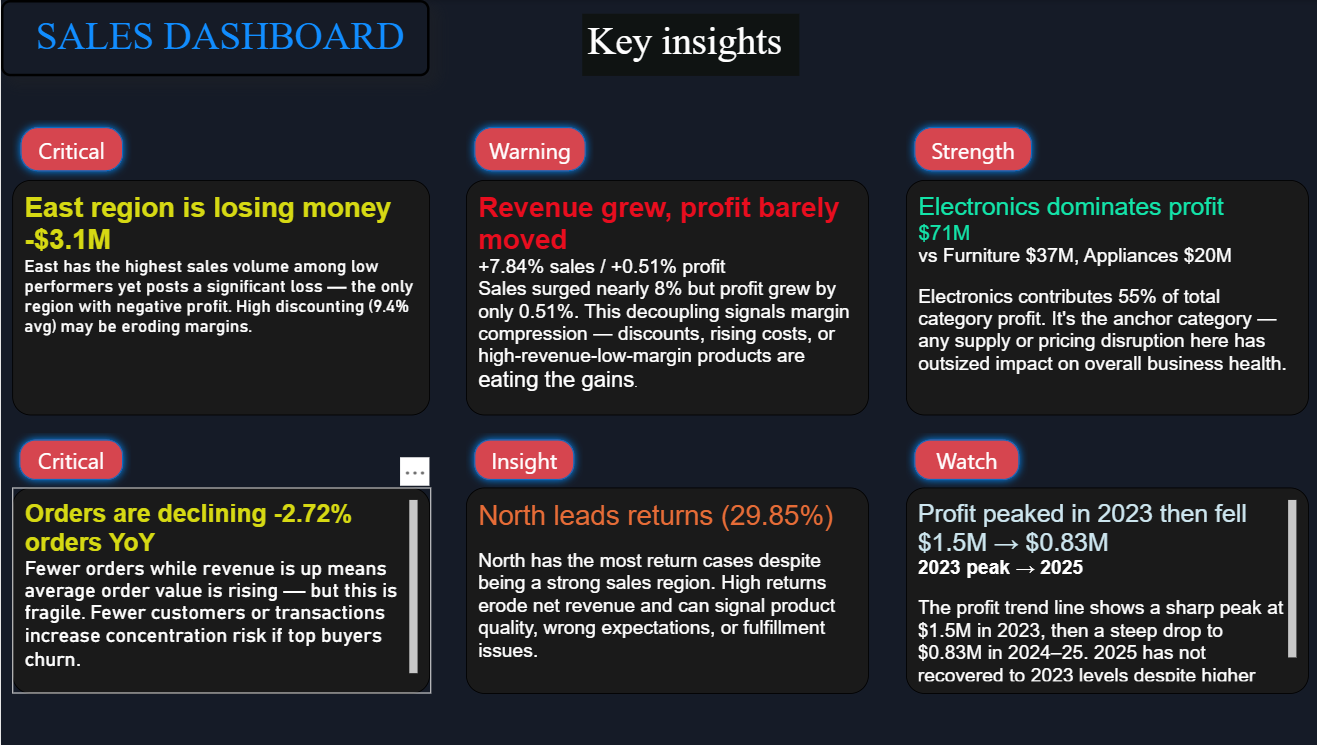

What the dashboard file says about the page in this screenshot:
{"tool":"powerbi","page":{"name":"key insights","canvas":[1280,720],"ordinal":2},"visuals":[{"type":"textbox","box":[561,13.3,209.9,60.3],"z":0},{"type":"shape","box":[11,114.9,114.9,58.7],"z":1000},{"type":"textbox","box":[11,173.6,403.5,227.4],"z":2000},{"type":"textbox","box":[11,470.8,403.5,199.3],"z":3000},{"type":"shape","box":[448.8,114.9,123.5,58.7],"z":4000},{"type":"textbox","box":[448.8,173.6,388.9,227.4],"z":5000},{"type":"shape","box":[448.8,415.8,112.5,55],"z":6000},{"type":"textbox","box":[448.8,470.8,388.9,199.3],"z":7000},{"type":"shape","box":[9.8,415.8,116.2,55],"z":8000},{"type":"textbox","box":[873.1,173.6,388.9,227.4],"z":9000},{"type":"textbox","box":[873.1,470.8,388.9,199.3],"z":10000},{"type":"shape","box":[873.1,114.9,129.6,58.7],"z":11000},{"type":"shape","box":[873.1,415.8,117.4,55],"z":12000},{"type":"textbox","box":[0,0,413.8,73.6],"z":13000}]}

Visuals, with their boxes in screenshot pixels (x1, y1, x2, y2), scaled from the page's 1280x720 canvas onto the 1317x745 screenshot:
textbox: select_region(577, 14, 793, 76)
shape: select_region(11, 119, 130, 180)
textbox: select_region(11, 180, 426, 415)
textbox: select_region(11, 487, 426, 693)
shape: select_region(462, 119, 589, 180)
textbox: select_region(462, 180, 862, 415)
shape: select_region(462, 430, 578, 487)
textbox: select_region(462, 487, 862, 693)
shape: select_region(10, 430, 130, 487)
textbox: select_region(898, 180, 1298, 415)
textbox: select_region(898, 487, 1298, 693)
shape: select_region(898, 119, 1032, 180)
shape: select_region(898, 430, 1019, 487)
textbox: select_region(0, 0, 426, 76)
